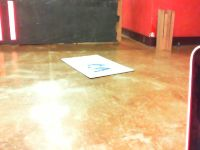switch: (7, 1, 17, 40), (1, 11, 3, 41)
